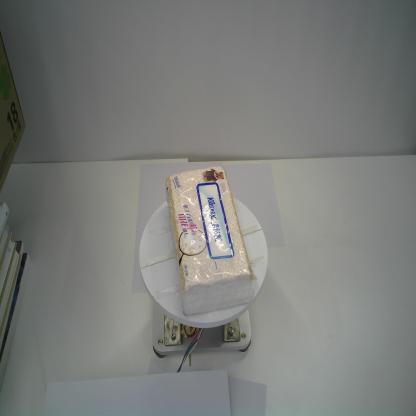Tissue: (165, 166, 254, 316)
